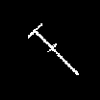double_crochet: (28, 24, 78, 74)
